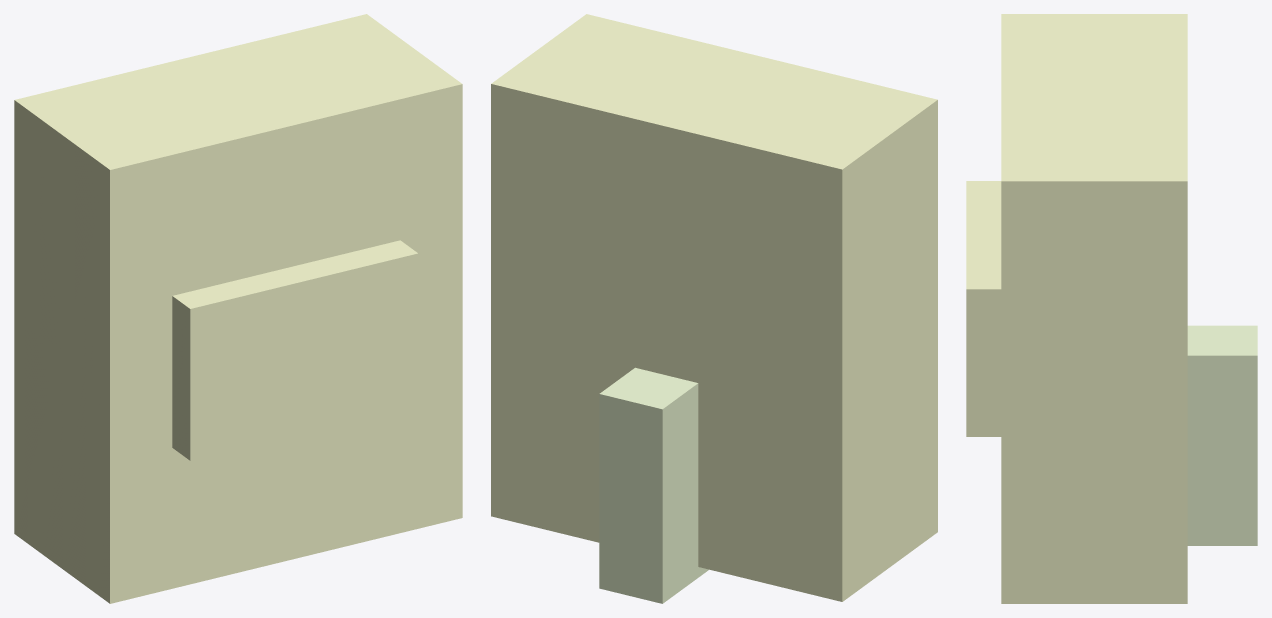
Rendered from signal_pedestrian_wait_indicator_single.glb.
3 renders of one model, left to right at view 1: azimuth 30°, elevation 25°; view 2: azimuth 150°, elevation 25°; view 3: azimuth 270°, elevation 25°, orthographic. The views are drawn at different scales.
Parts seen in each view (by area): view 1: housing, display_wait; view 2: housing, bracket; view 3: housing, bracket, display_wait.
Boxes of the visible parts, x1,y1,x2,y2 form: housing: (14, 14, 462, 603); display_wait: (172, 240, 418, 460); housing: (491, 14, 937, 601); bracket: (599, 367, 708, 603); housing: (1001, 14, 1187, 603); bracket: (1187, 325, 1257, 545); display_wait: (966, 181, 1001, 436).
Size of the model in its own units: 0.34 by 0.41 by 0.25.
